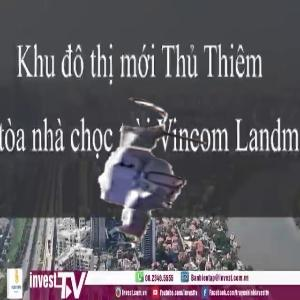drone: (55, 96, 215, 256)
